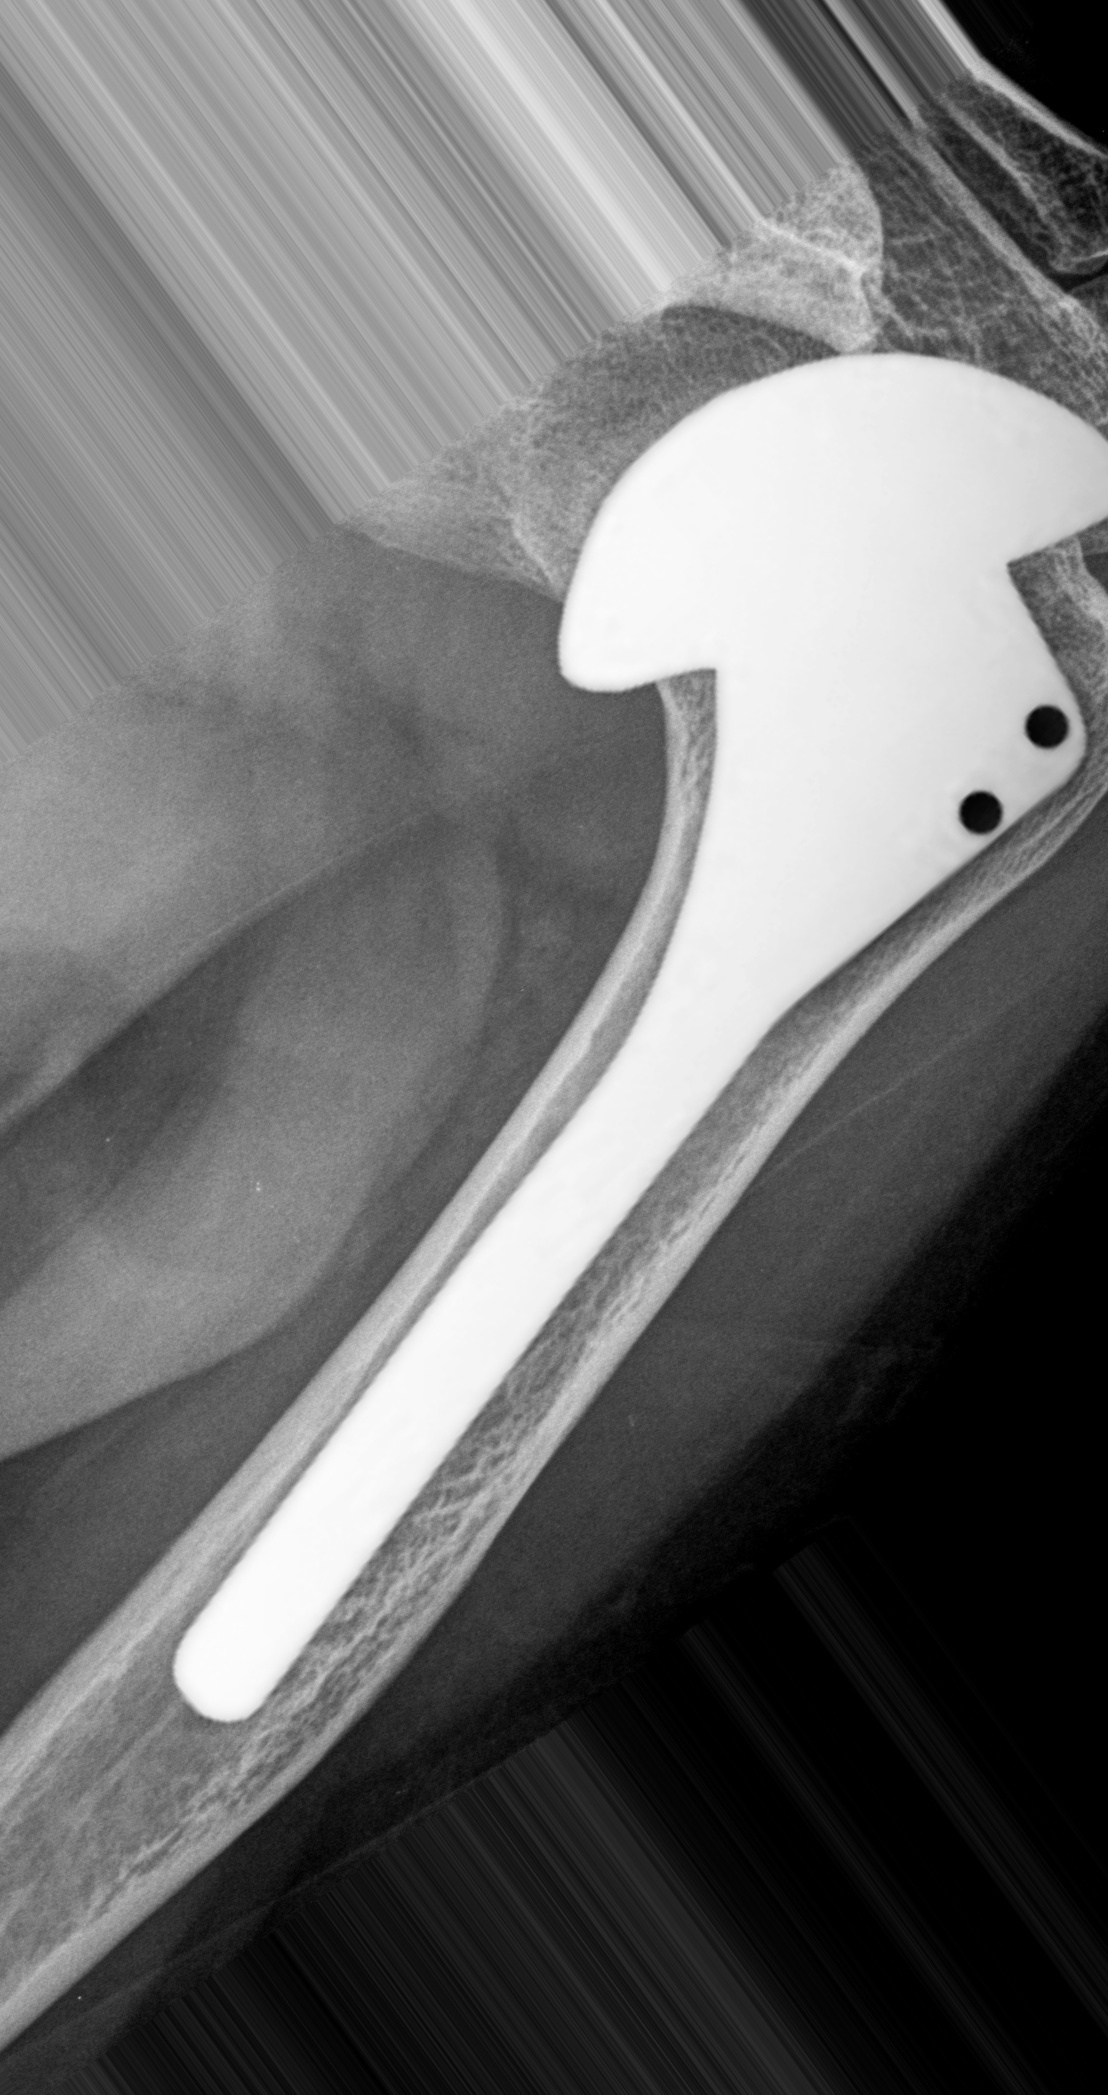Shoulder - Aequalishead - Tornier: (499, 342, 1108, 701)
Shoulder - Aequalistail - Tornier: (521, 497, 1107, 1067)
